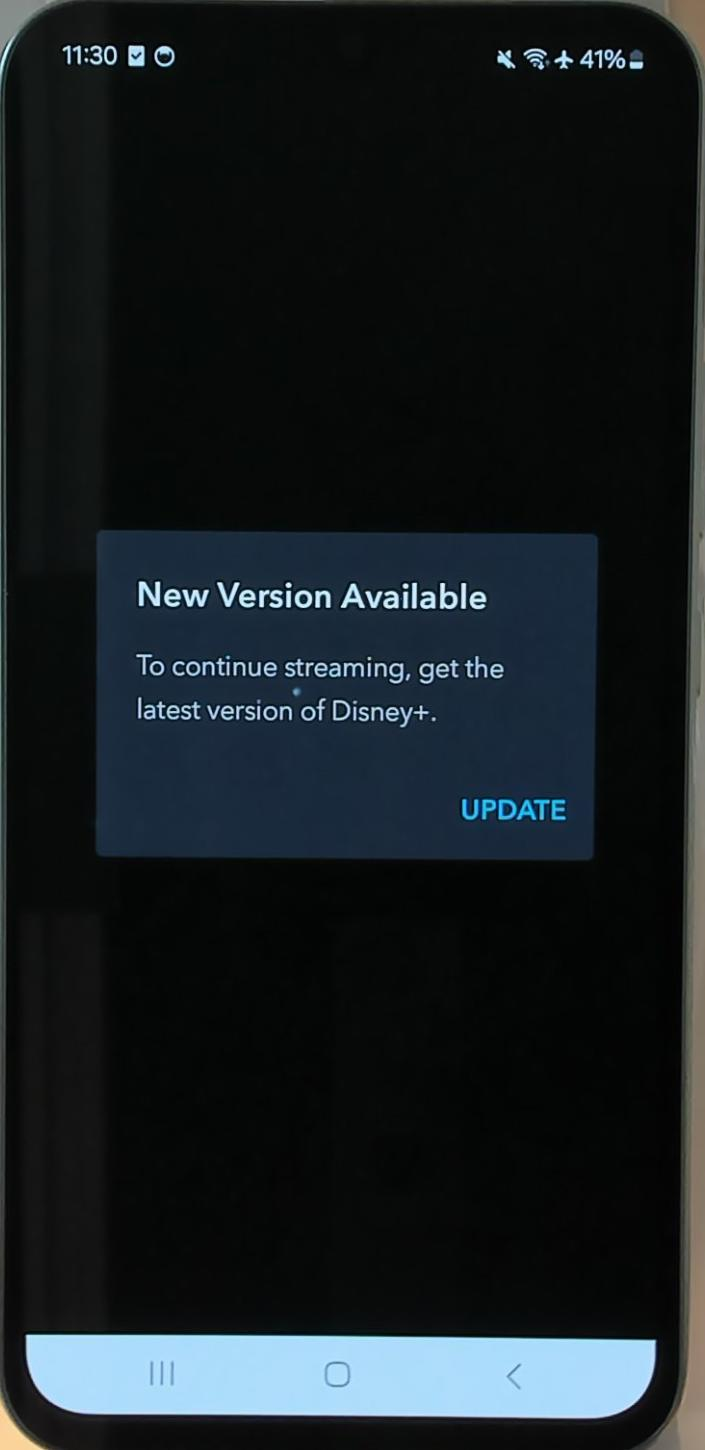CommunBotton: (446, 780, 572, 832), (134, 1350, 192, 1392), (494, 1346, 534, 1402), (312, 1346, 356, 1392)
